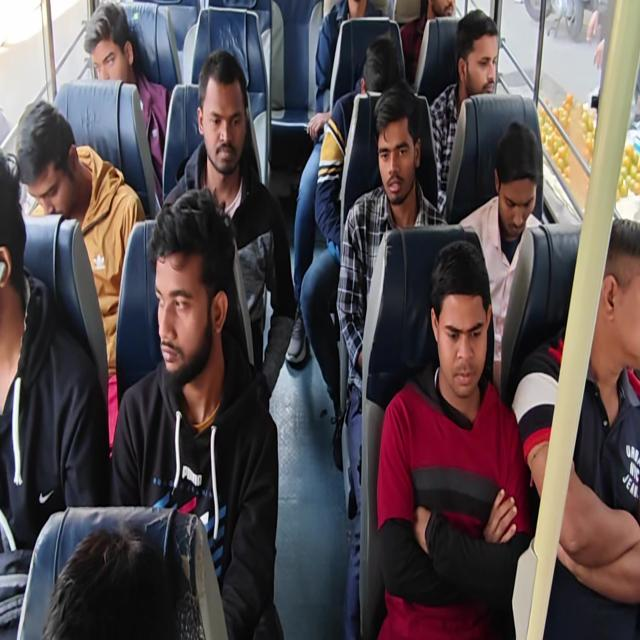person: (155, 201, 214, 371), (430, 271, 484, 390), (15, 108, 75, 215), (591, 232, 640, 357), (82, 6, 138, 91), (0, 158, 27, 324), (200, 71, 245, 170), (493, 140, 532, 242), (456, 25, 503, 98), (352, 36, 402, 98), (378, 115, 414, 190), (424, 0, 459, 31)
